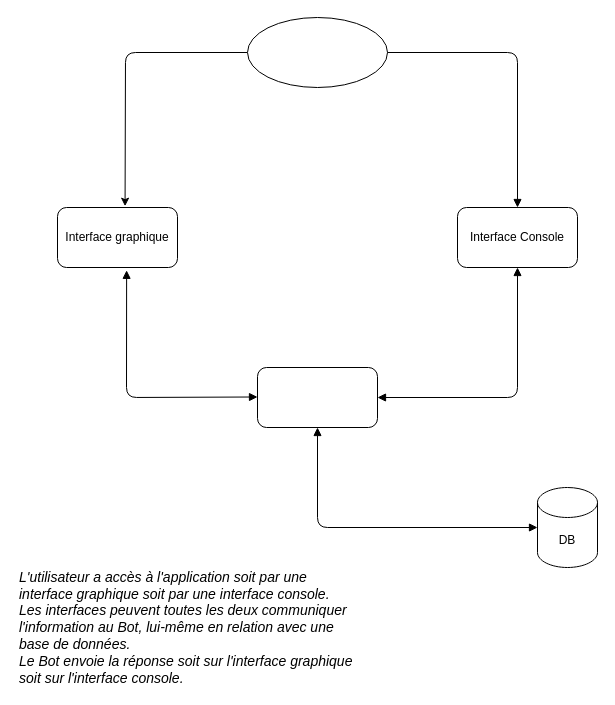
Image size: 615x705. Some labels were removed from this diagram. Each missing label, with the box of its shape:
Bot: (256, 366, 378, 428)
User: (246, 16, 388, 88)
